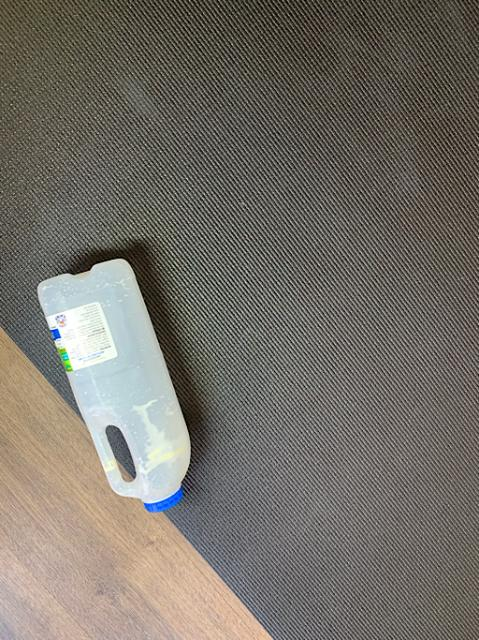plastic: (37, 259, 189, 511), (104, 424, 135, 481)
